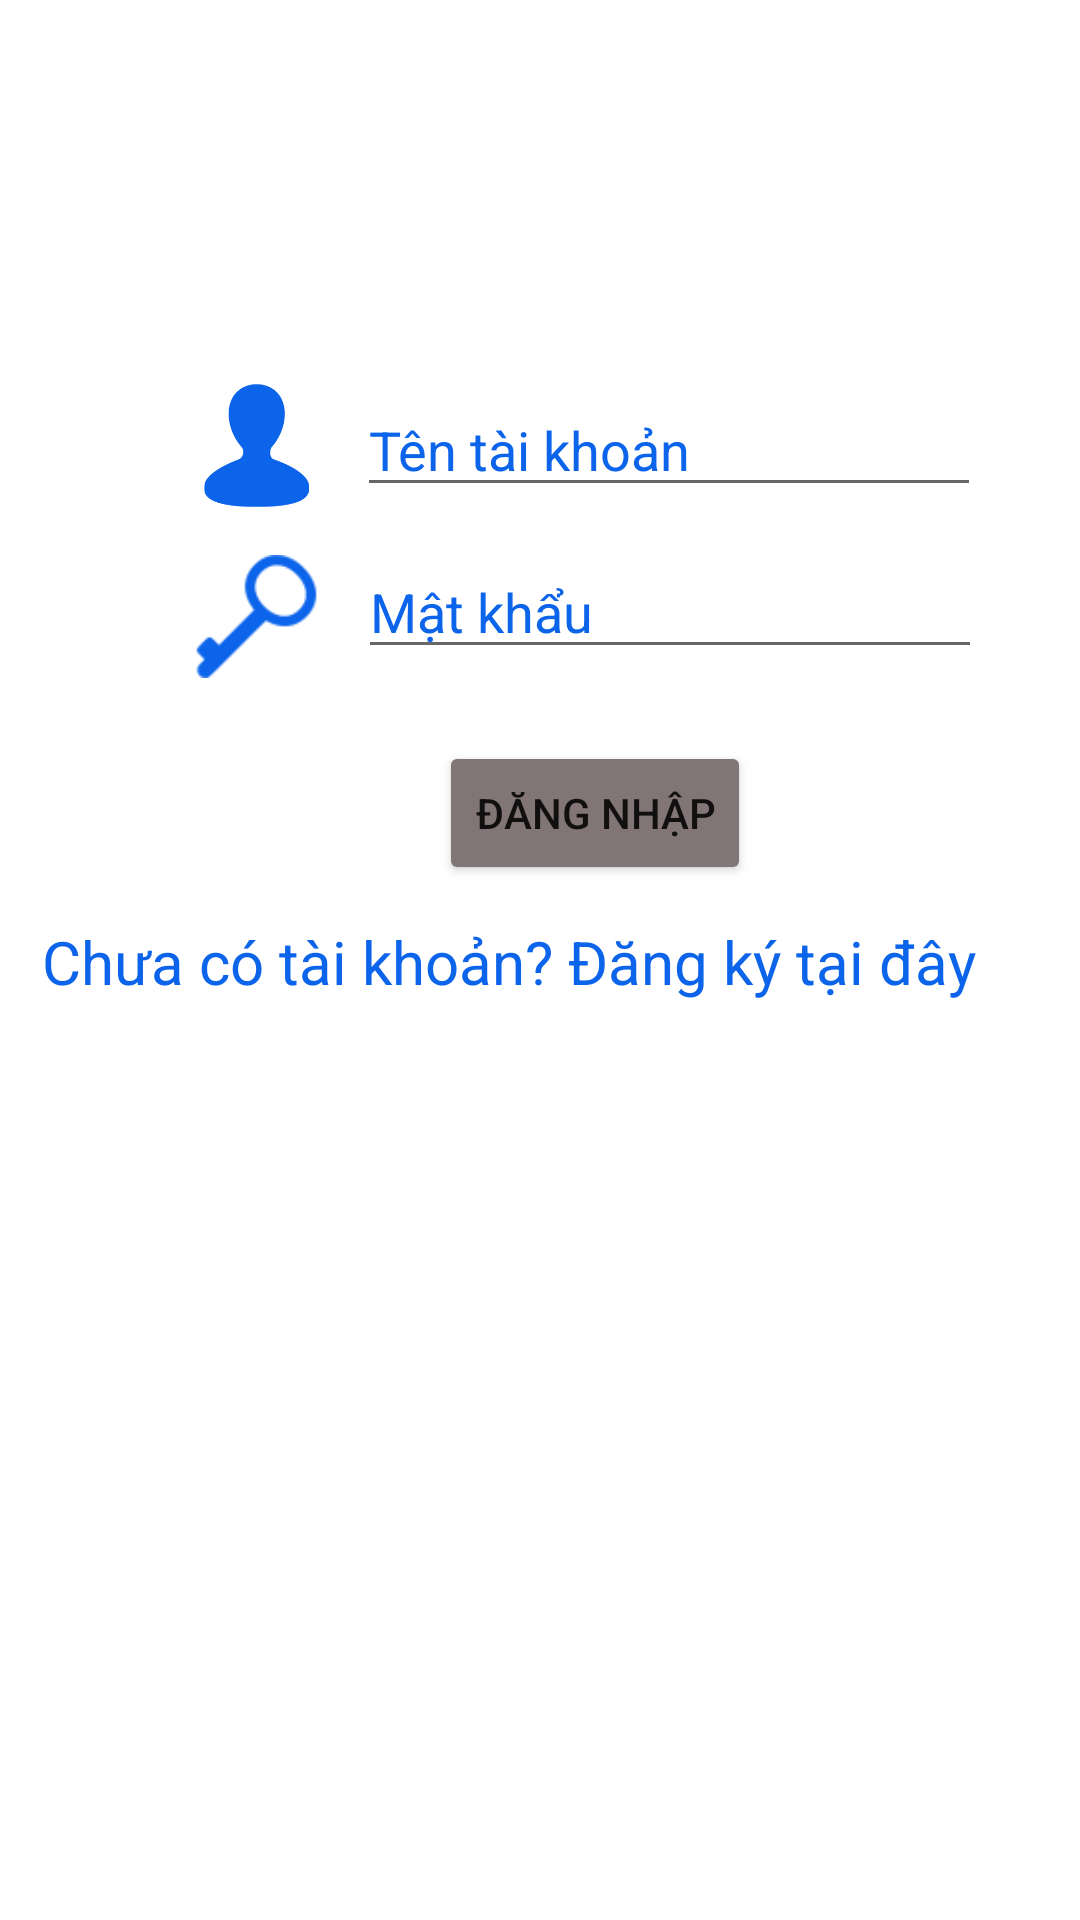

Where icons sit on this 1080w x 1920h app screen, as (x1=x1, y1=y1, x2=x2, y2=y2):
key xanh: (x1=196, y1=555, x2=317, y2=678)
user xanh: (x1=204, y1=384, x2=309, y2=507)
